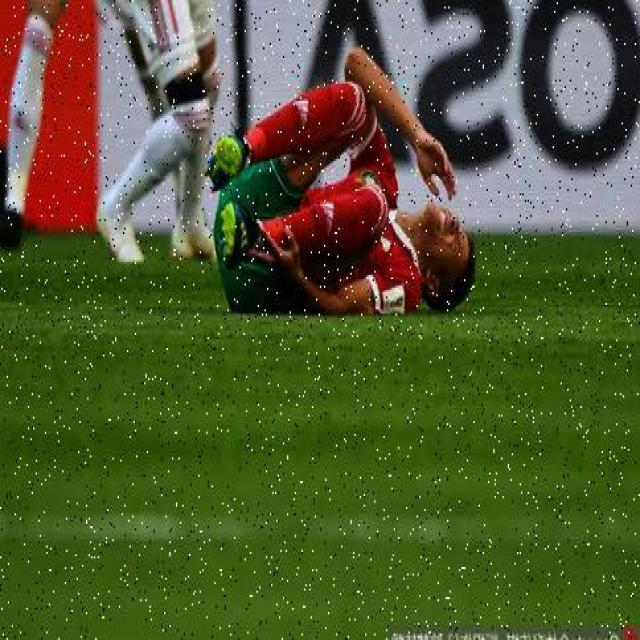fall: (209, 69, 477, 303)
